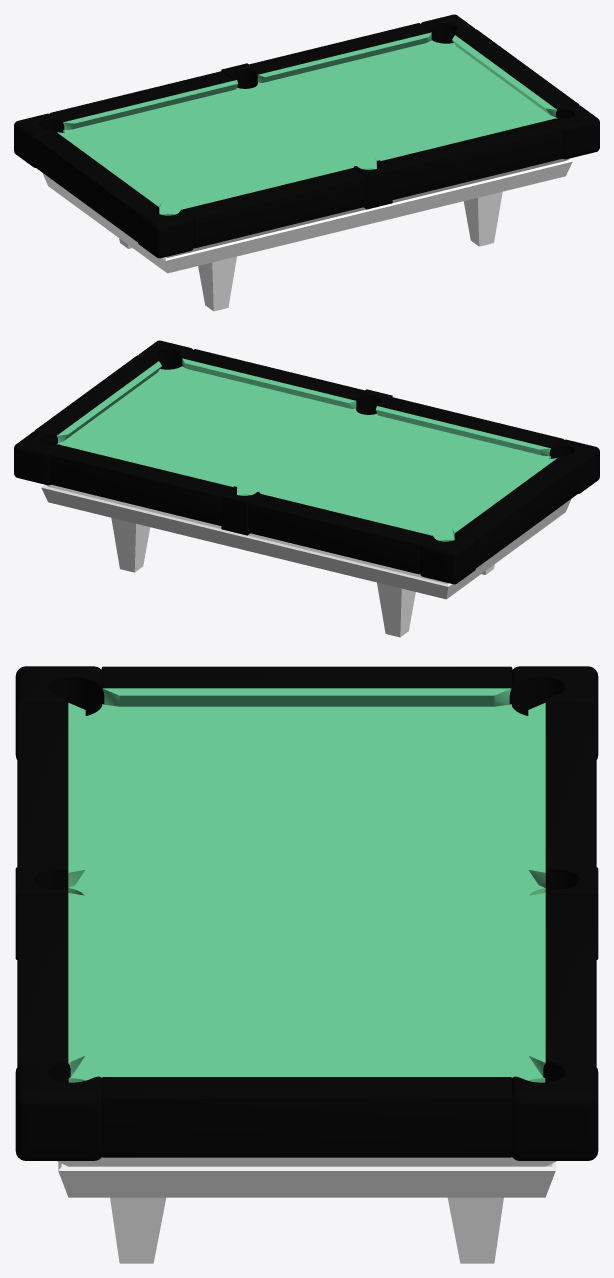
The model's file is stol.fbx.
The picture shows the model from 3 angles, top to bottom: view 1: azimuth 30°, elevation 25°; view 2: azimuth 150°, elevation 25°; view 3: azimuth 270°, elevation 25°; orthographic projection. The views are drawn at different scales.
Parts seen in each view (by area): view 1: M-Plane, Outer Edges, Table Legs, Pockets, Inner Edges; view 2: M-Plane, Outer Edges, Table Legs, Pockets, Inner Edges; view 3: M-Plane, Outer Edges, Pockets, Table Legs, Inner Edges.
Part boxes in pixels (x1,y1,x2,y2): M-Plane: (63, 40, 557, 215); Outer Edges: (34, 23, 579, 248); Table Legs: (42, 158, 572, 311); Pockets: (14, 14, 599, 258); Inner Edges: (57, 32, 556, 209); M-Plane: (56, 366, 550, 541); Outer Edges: (34, 349, 579, 574); Table Legs: (41, 484, 571, 637); Pockets: (14, 340, 599, 584); Inner Edges: (57, 358, 556, 539); M-Plane: (68, 704, 545, 1082); Outer Edges: (17, 666, 596, 1157); Pockets: (15, 666, 598, 1160); Table Legs: (57, 1157, 556, 1263); Inner Edges: (68, 688, 545, 1076).
Size of the model in its own units: 301 by 80 by 171.
